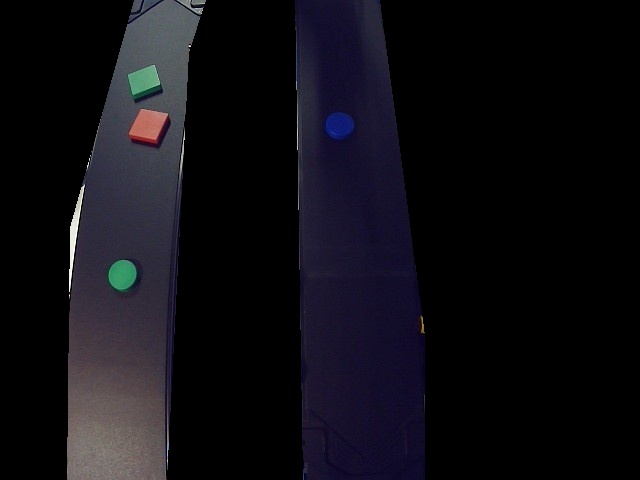Blue_Circle: (327, 113, 356, 140)
Green_Circle: (108, 260, 139, 292)
Green_Square: (127, 65, 163, 101)
Red_Square: (129, 109, 174, 146)
